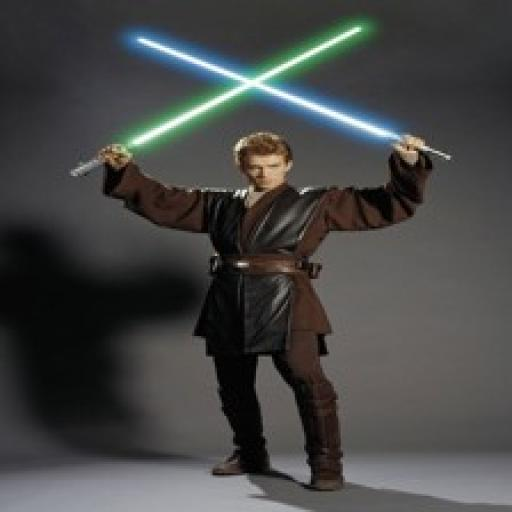human: (92, 136, 434, 492)
lightsaber: (64, 22, 366, 184), (138, 36, 454, 165)
